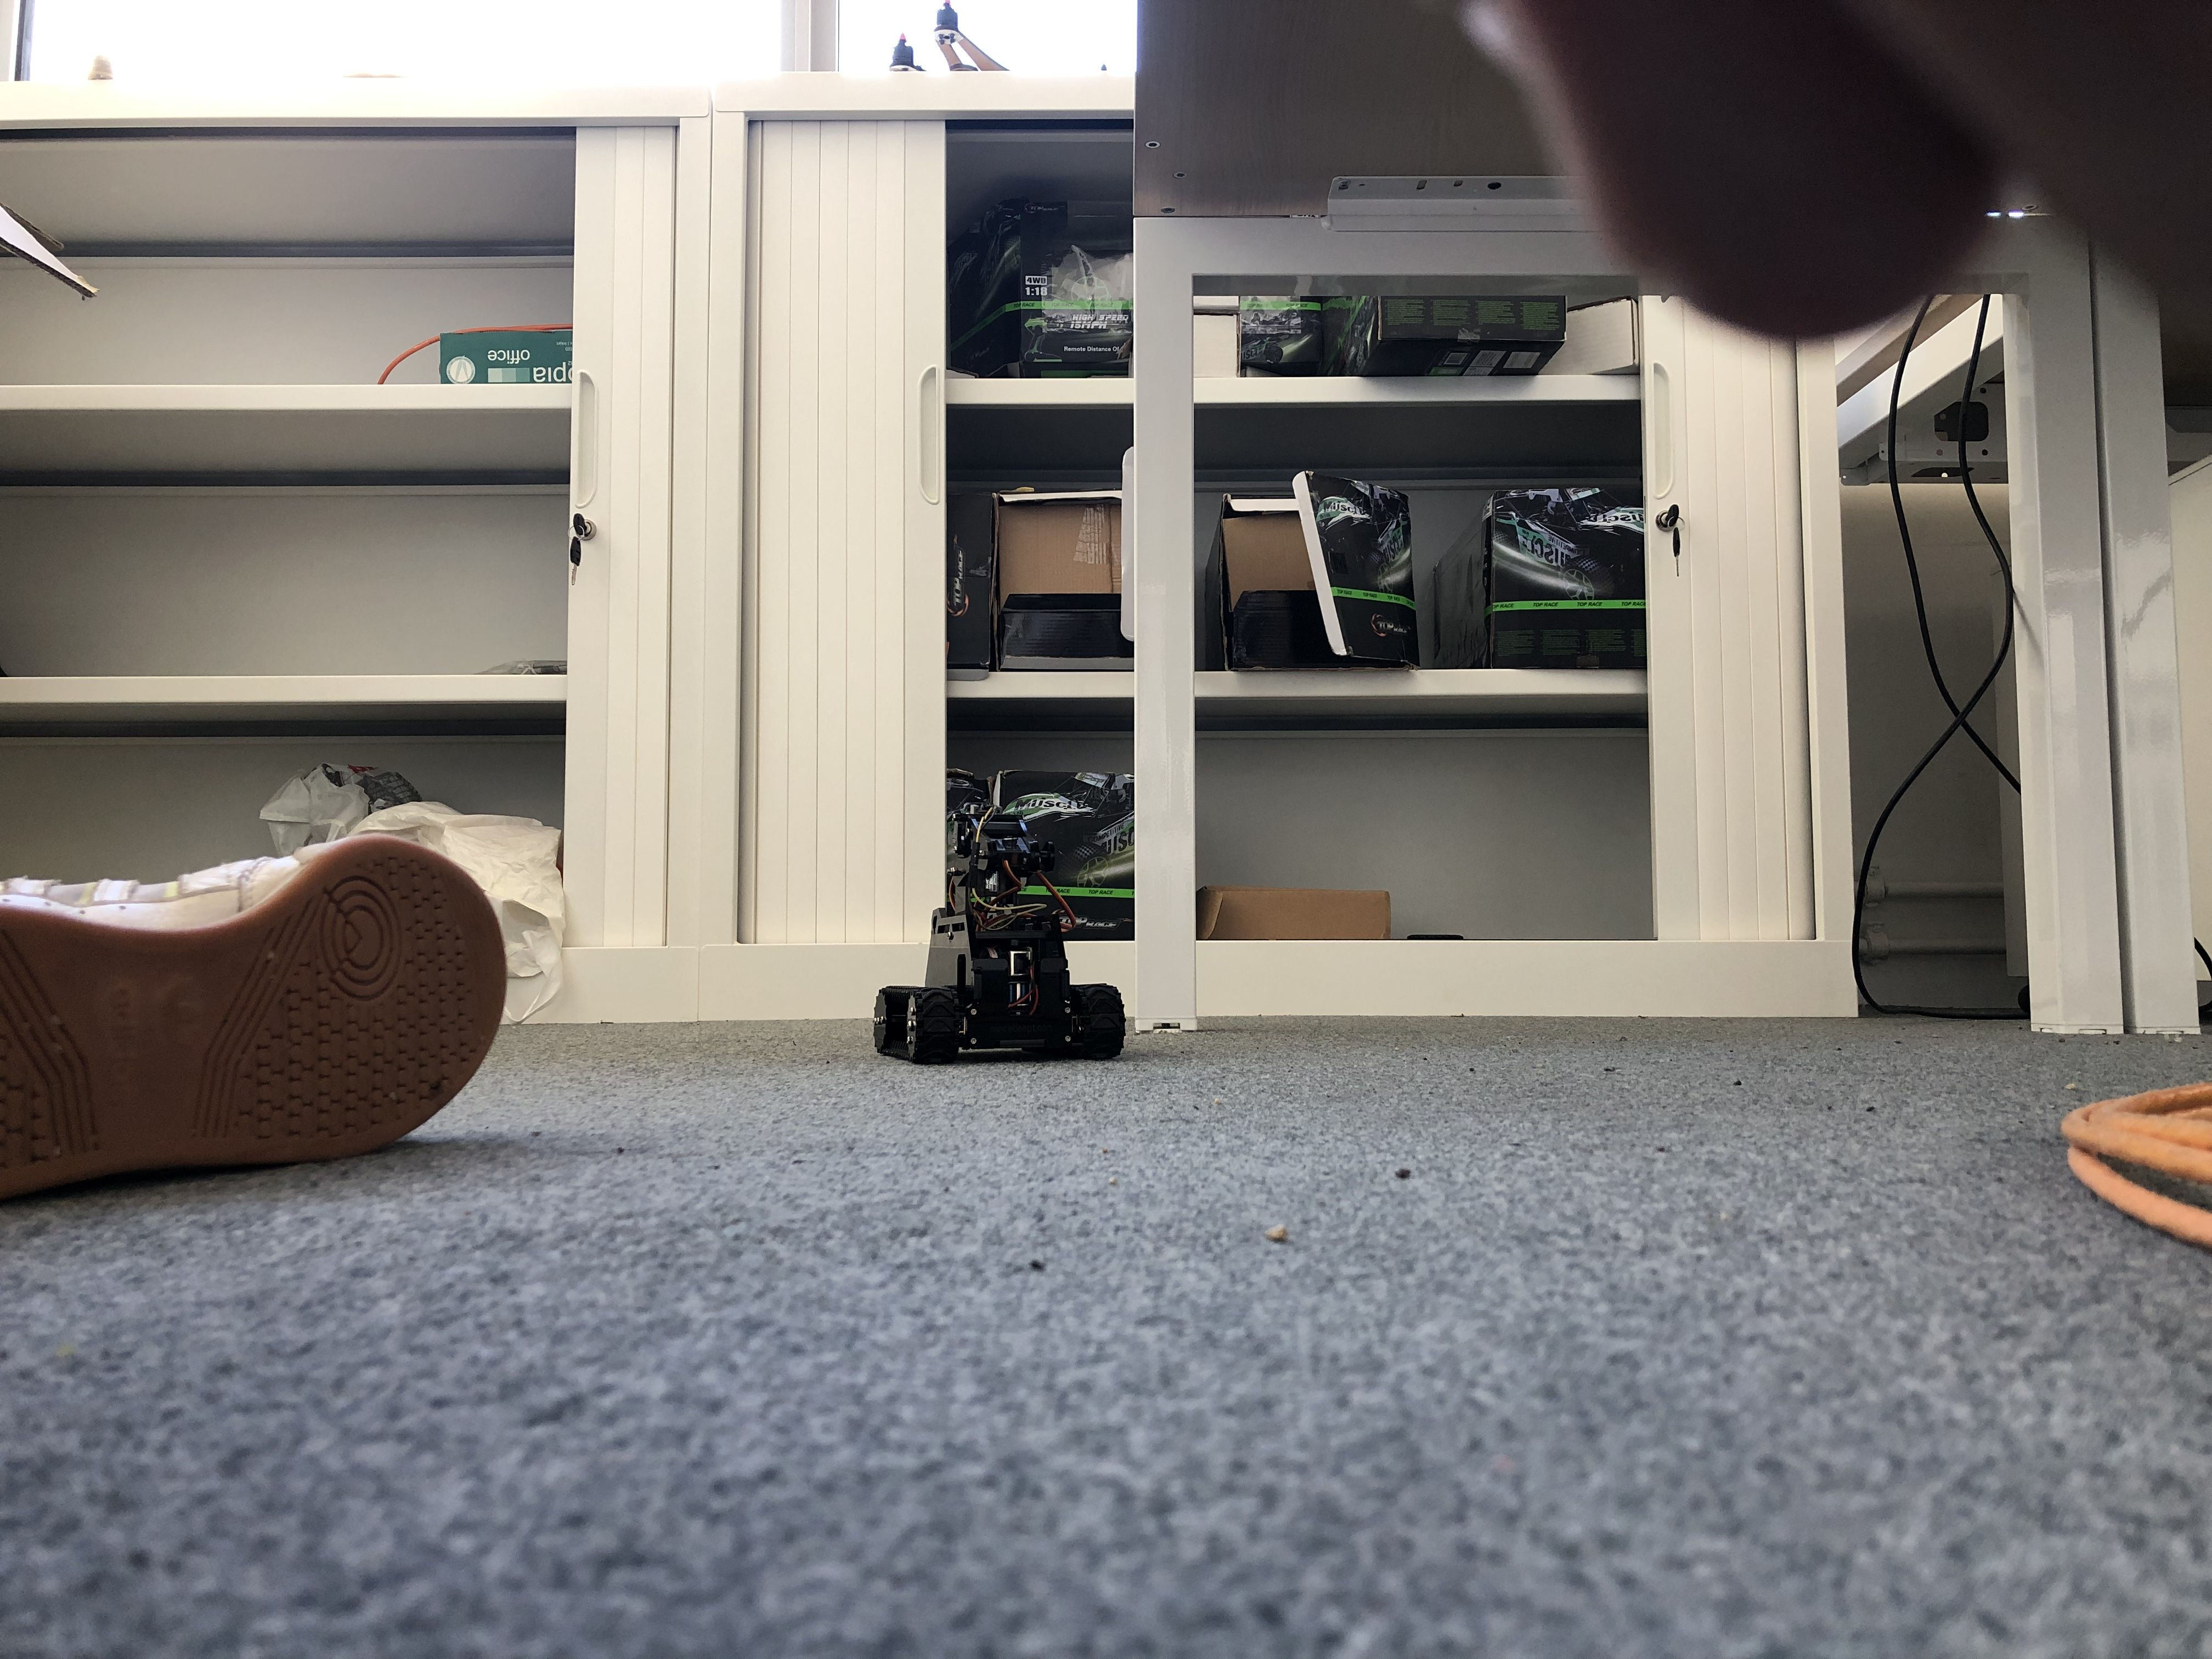rasptank: (871, 795, 1116, 1063)
